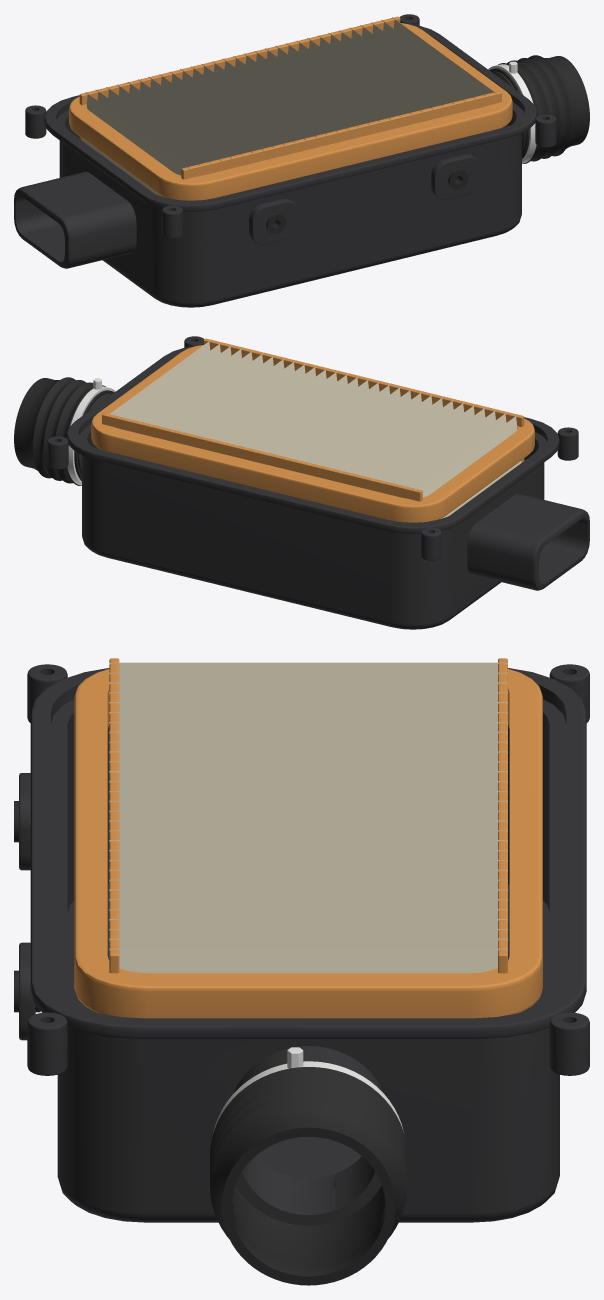
File: air_filter.glb
3 renders of one model, top to bottom at view 1: azimuth 30°, elevation 25°; view 2: azimuth 150°, elevation 25°; view 3: azimuth 270°, elevation 25°, orthographic. The views are drawn at different scales.
Parts seen in each view (by area): view 1: air_filter__airbox, air_filter__pleats, air_filter__frame, air_filter__end_strips, air_filter__outlet_boot, air_filter__boot_clamp, air_filter__grommets; view 2: air_filter__airbox, air_filter__pleats, air_filter__frame, air_filter__end_strips, air_filter__outlet_boot, air_filter__boot_clamp; view 3: air_filter__airbox, air_filter__pleats, air_filter__frame, air_filter__outlet_boot, air_filter__end_strips, air_filter__boot_clamp.
Part boxes in pixels (left/top/right/bottom): air_filter__airbox: left=14, top=14, right=556, bottom=307; air_filter__pleats: left=82, top=17, right=496, bottom=196; air_filter__frame: left=69, top=23, right=512, bottom=200; air_filter__end_strips: left=79, top=16, right=501, bottom=179; air_filter__outlet_boot: left=489, top=55, right=589, bottom=163; air_filter__boot_clamp: left=488, top=61, right=536, bottom=163; air_filter__grommets: left=266, top=168, right=468, bottom=234; air_filter__airbox: left=47, top=336, right=589, bottom=629; air_filter__pleats: left=107, top=339, right=521, bottom=518; air_filter__frame: left=91, top=345, right=534, bottom=522; air_filter__end_strips: left=102, top=338, right=524, bottom=501; air_filter__outlet_boot: left=14, top=377, right=114, bottom=485; air_filter__boot_clamp: left=67, top=378, right=115, bottom=485; air_filter__airbox: left=19, top=664, right=589, bottom=1225; air_filter__pleats: left=109, top=662, right=507, bottom=973; air_filter__frame: left=74, top=669, right=542, bottom=1018; air_filter__outlet_boot: left=210, top=1067, right=407, bottom=1285; air_filter__end_strips: left=109, top=658, right=507, bottom=973; air_filter__boot_clamp: left=213, top=1047, right=403, bottom=1132.
Size of the model in its own units: 34.7 by 9.72 by 17.2.
